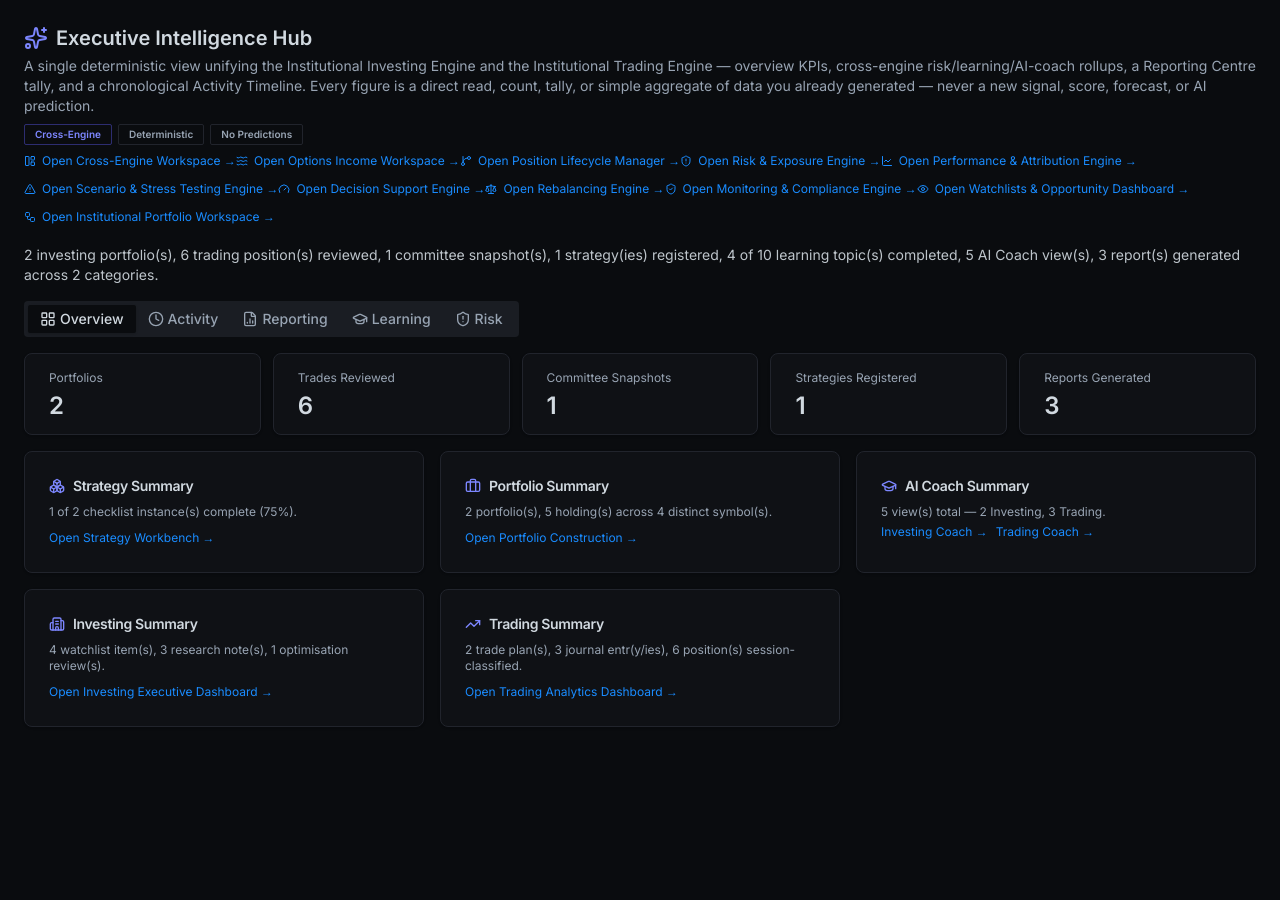
Test: ExecutiveIntelligence page › Learning tab shows real completion figures and weakest paths, never a recommendation
Click the tab with test id "tab-executive-learning": (391, 319) [340,305,443,333]
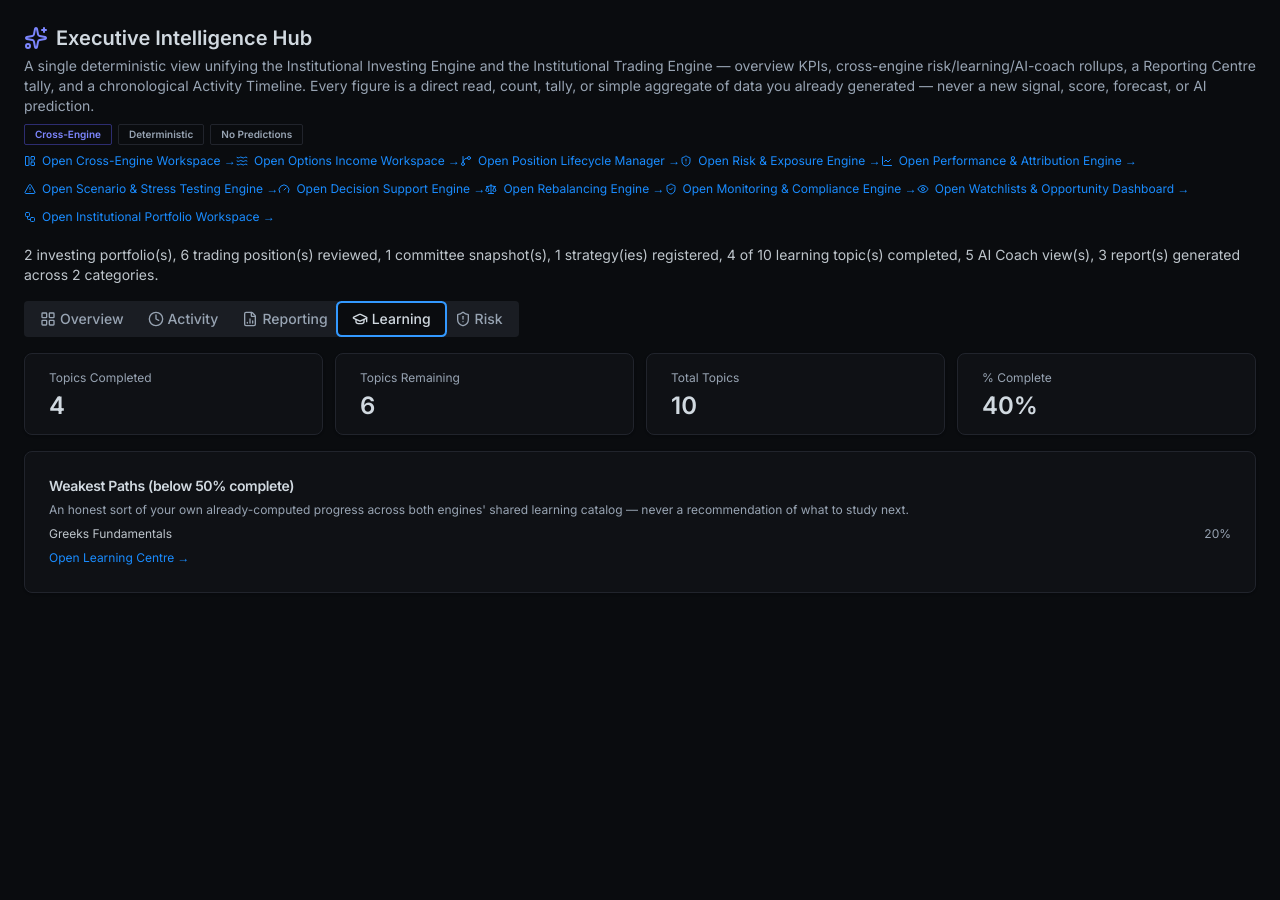
Now the element with test id "kpi-topics-completed" shows "4", box [49,391,65,420]
Now the element with test id "kpi-topics-remaining" shows "6", box [360,391,375,420]
Now the element with test id "panel-weakest-paths" shows "Greeks Fundamentals", box [49,526,172,541]
